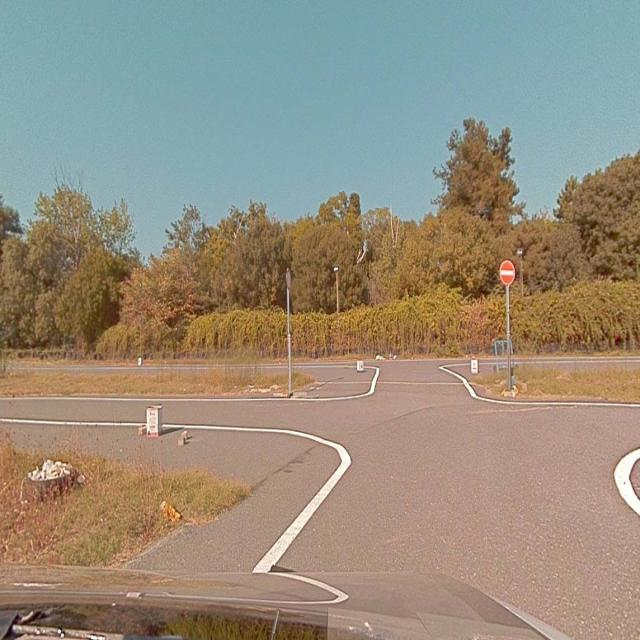girisyok: (500, 260, 515, 283)
